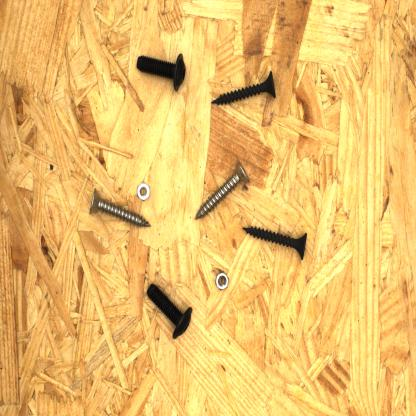screw: (194, 158, 251, 222), (145, 281, 195, 342), (89, 187, 154, 231), (210, 69, 279, 106), (242, 225, 309, 263), (135, 52, 191, 92)
